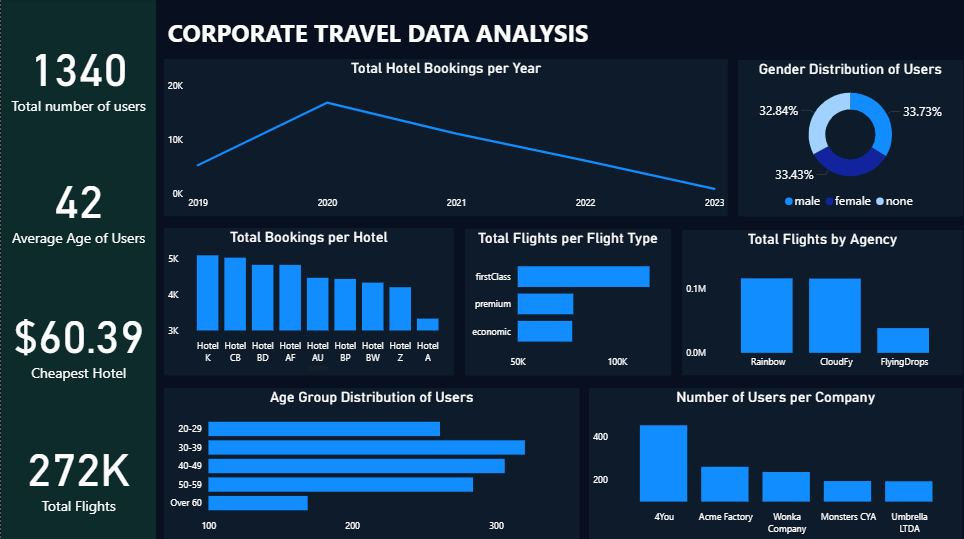

The page's visual inventory and layout, read from the dashboard file:
{"tool":"powerbi","page":{"name":"Travel","canvas":[1280,720],"ordinal":0},"visuals":[{"type":"card","fields":{"Values":["Sum(vw_TotalUsers.TotalUser)"]},"box":[0,0,206.3,200.5],"z":0,"group":"g1"},{"type":"clusteredColumnChart","title":"Number of Users per Company","fields":{"Category":["vw_CompanyUsers.company"],"Y":["Sum(vw_CompanyUsers.TotalUser)"]},"box":[781.5,518,496.1,202],"z":1000},{"type":"donutChart","title":"Gender Distribution of Users","fields":{"Category":["vw_gender.gender"],"Y":["Sum(vw_gender.total_count)"]},"box":[979,82,298.5,207.8],"z":2000},{"type":"barChart","title":"Age Group Distribution of Users","fields":{"Category":["vw_age_group_distribution.age_group"],"Y":["Sum(vw_age_group_distribution.user_count)"]},"box":[216.6,518,551.7,202],"z":3000},{"type":"clusteredColumnChart","title":"Total Flights by Agency","fields":{"Category":["vw_total_flight_per_agency.agency"],"Y":["Sum(vw_total_flight_per_agency.totalFlight)"]},"box":[904.4,308.8,373.2,193.2],"z":4000},{"type":"barChart","title":"Total Flights per Flight Type","fields":{"Category":["vw_flight_type.flightType"],"Y":["Sum(vw_flight_type.totalFlight)"]},"box":[616.1,307.3,273.7,194.6],"z":5000},{"type":"columnChart","title":"Total Bookings per Hotel","fields":{"Category":["vw_hotel_booking.name"],"Y":["Sum(vw_hotel_booking.totalBooking)"]},"box":[216.6,305.9,384.9,196.1],"z":6000},{"type":"lineChart","title":"Total Hotel Bookings per Year","fields":{"Category":["vw_yearly_booking.year"],"Y":["Sum(vw_yearly_booking.totalBooking)"]},"box":[216.6,80.5,749.3,209.3],"z":7000},{"type":"textbox","box":[216.6,19,648.3,61.5],"z":8000},{"type":"card","fields":{"Values":["Sum(vw_age_min_avg_max.avgAge)"]},"box":[0,181.5,206.3,187.3],"z":9000,"group":"g1"},{"type":"card","fields":{"Values":["vw_hotel_price.Min Price"]},"box":[0,349.8,206.3,210.7],"z":10000,"group":"g1"},{"type":"card","fields":{"Values":["Sum(vw_flight_type.totalFlight)"]},"box":[0,541.5,206.3,178.5],"z":10001,"group":"g1"},{"type":"group","id":"g1","title":"Group 1","box":[0,0,206.3,720],"z":10002}]}

Visuals, with their boxes in screenshot pixels (x1, y1, x2, y2), scaled from the page's 1280x720 canvas onto the 964x539 screenshot:
card - Sum(vw_TotalUsers.TotalUser): locate(0, 0, 155, 150)
"Number of Users per Company" clusteredColumnChart: locate(589, 388, 962, 538)
"Gender Distribution of Users" donutChart: locate(737, 61, 962, 217)
"Age Group Distribution of Users" barChart: locate(163, 388, 579, 538)
"Total Flights by Agency" clusteredColumnChart: locate(681, 231, 962, 376)
"Total Flights per Flight Type" barChart: locate(464, 230, 670, 376)
"Total Bookings per Hotel" columnChart: locate(163, 229, 453, 376)
"Total Hotel Bookings per Year" lineChart: locate(163, 60, 727, 217)
textbox: locate(163, 14, 651, 60)
card - Sum(vw_age_min_avg_max.avgAge): locate(0, 136, 155, 276)
card - vw_hotel_price.Min Price: locate(0, 262, 155, 420)
card - Sum(vw_flight_type.totalFlight): locate(0, 405, 155, 538)
"Group 1" group: locate(0, 0, 155, 538)
